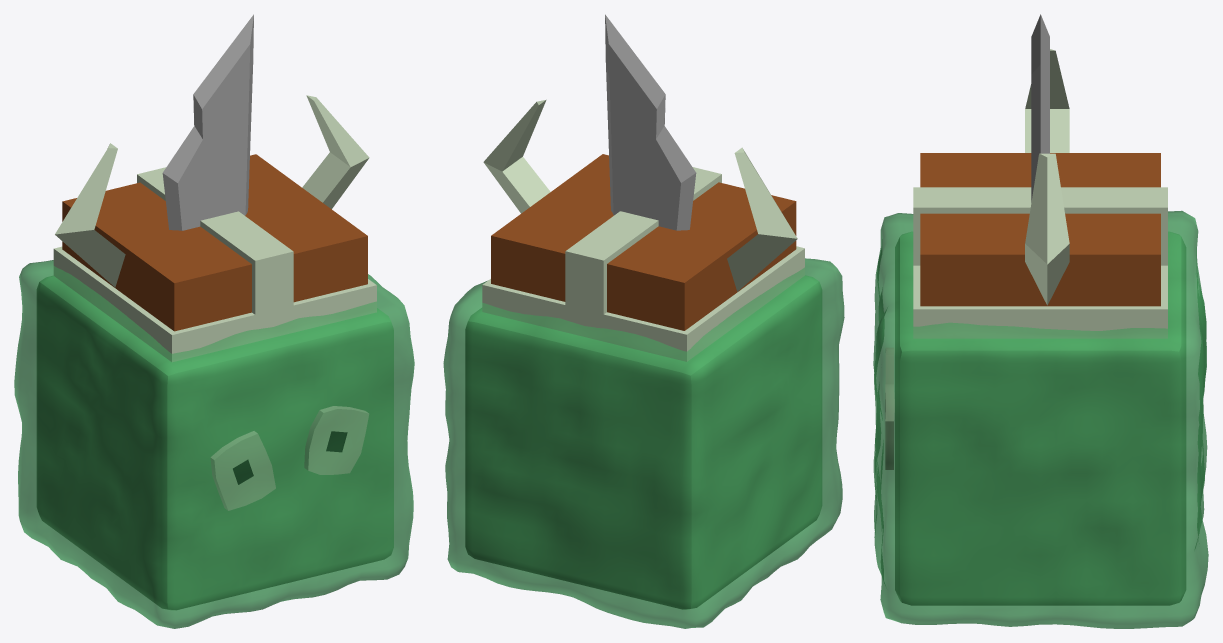
The model's file is Blobby.fbx.
3 renders of one model, left to right at view 1: azimuth 30°, elevation 25°; view 2: azimuth 150°, elevation 25°; view 3: azimuth 270°, elevation 25°, orthographic. The views are drawn at different scales.
Parts seen in each view (by area): view 1: Jello, Cubo, Hat, Blade, Horns, Eyes, Eyes1; view 2: Jello, Cubo, Hat, Blade, Horns; view 3: Jello, Cubo, Hat, Horns, Blade, Eyes1.
Boxes of the visible parts, <box> form: Jello: <box>14,260,414,628</box>; Cubo: <box>36,276,393,610</box>; Hat: <box>53,154,376,362</box>; Blade: <box>162,14,253,230</box>; Horns: <box>55,95,369,287</box>; Eyes: <box>210,431,275,510</box>; Eyes1: <box>304,406,368,474</box>; Jello: <box>443,258,844,628</box>; Cubo: <box>465,275,822,609</box>; Hat: <box>482,154,804,361</box>; Blade: <box>605,14,696,230</box>; Horns: <box>483,99,797,291</box>; Jello: <box>873,210,1208,628</box>; Cubo: <box>895,231,1186,605</box>; Hat: <box>913,153,1167,338</box>; Horns: <box>1025,49,1069,305</box>; Blade: <box>1031,14,1049,202</box>; Eyes1: <box>885,384,894,469</box>.
Bounding box in the file's own units: 10.08 × 16.4 × 8.64.
